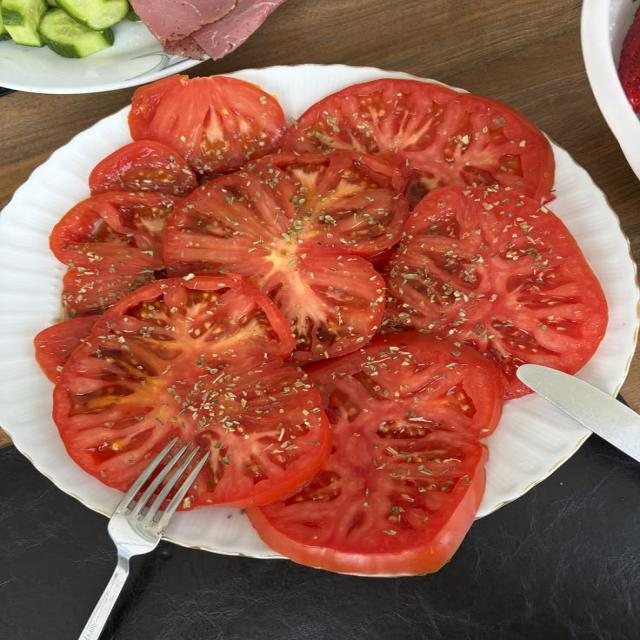beacon: (193, 0, 285, 59), (130, 0, 235, 44)
cucumber sliced: (38, 8, 113, 56), (57, 0, 128, 30), (2, 0, 47, 46)
sliced tomatoe: (54, 276, 329, 508), (247, 331, 502, 576), (165, 152, 406, 362), (383, 188, 607, 399), (283, 79, 554, 203), (50, 192, 179, 316), (128, 76, 285, 174), (89, 141, 198, 196), (34, 316, 99, 382)
